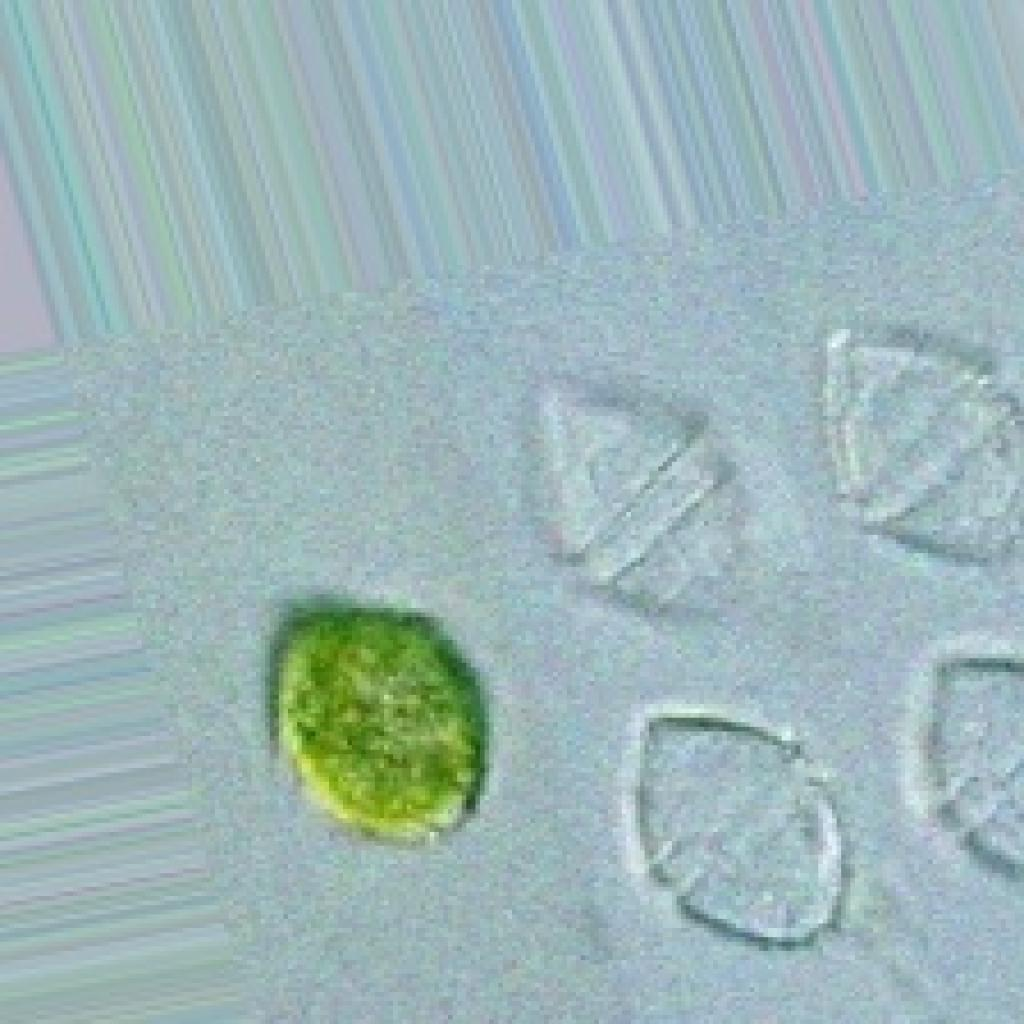Microalgae: (265, 599, 489, 846)
